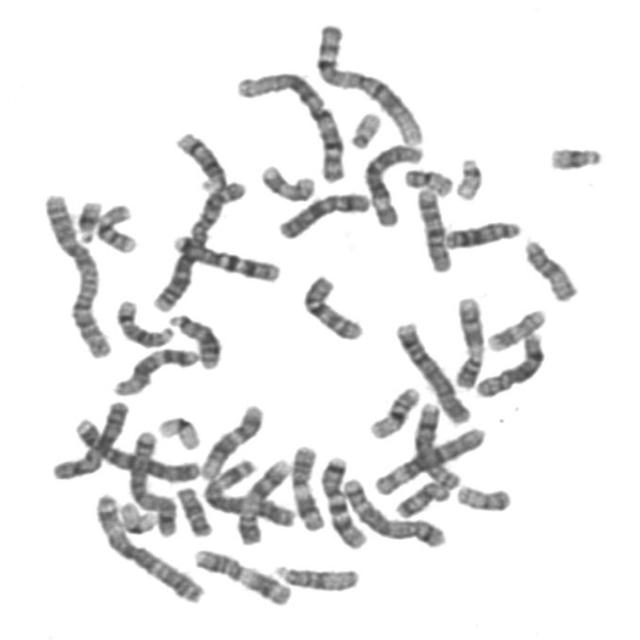A1: (309, 18, 426, 148), (228, 65, 348, 184)
A2: (146, 174, 247, 314), (36, 187, 114, 360)
A3: (88, 488, 206, 606), (198, 454, 298, 528)
B4: (68, 412, 202, 485), (388, 314, 473, 426)
B5: (336, 472, 449, 549), (124, 425, 181, 537)
C10: (296, 269, 367, 342), (410, 182, 455, 274)
C11: (188, 542, 294, 608), (286, 439, 328, 533)
C12: (195, 398, 267, 482), (107, 340, 202, 398)
C6: (367, 421, 488, 497), (358, 138, 427, 228)
C7: (165, 228, 284, 284), (314, 450, 371, 550)
C8: (469, 327, 547, 399), (408, 398, 464, 490)
C9: (231, 452, 294, 546), (449, 291, 487, 391)
D13: (162, 308, 225, 370), (438, 214, 524, 251)
D14: (169, 125, 228, 193), (110, 294, 175, 349)
D15: (519, 234, 581, 303), (270, 558, 362, 593)
E16: (363, 380, 422, 440), (90, 197, 140, 255)
E17: (481, 304, 549, 352), (254, 158, 318, 204)
E18: (389, 476, 452, 520), (170, 481, 215, 538)
F19: (152, 411, 203, 452), (112, 496, 160, 536)
F20: (451, 478, 514, 514), (398, 162, 456, 198)
G21: (544, 140, 606, 172), (71, 193, 105, 244)
G22: (450, 152, 486, 202), (344, 106, 384, 150)
X: (46, 395, 131, 482), (272, 186, 374, 241)
